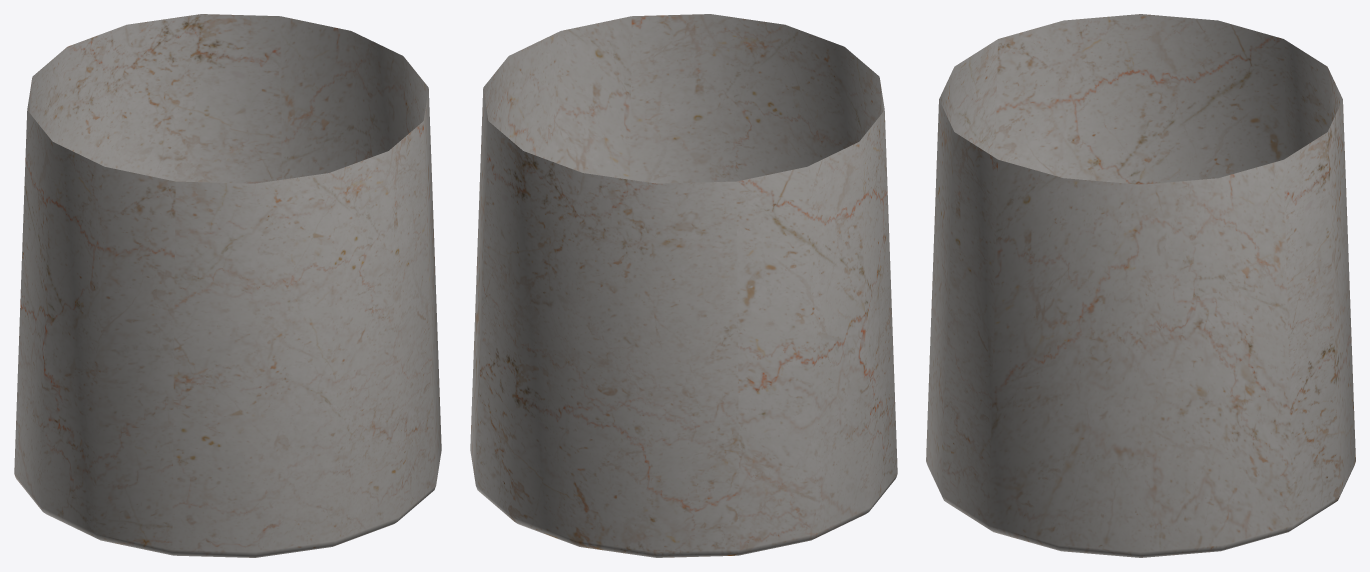
File: Faro piso 3.fbx
3 views of the same model, side by side, from view 1: azimuth 30°, elevation 25°; view 2: azimuth 150°, elevation 25°; view 3: azimuth 270°, elevation 25° (orthographic).
Visible parts, largest first — view 1: Faro piso 3_Baked; view 2: Faro piso 3_Baked; view 3: Faro piso 3_Baked.
Boxes of the visible parts, x1=… form: Faro piso 3_Baked: x1=14, y1=14, x2=441, y2=557; Faro piso 3_Baked: x1=470, y1=14, x2=897, y2=557; Faro piso 3_Baked: x1=926, y1=14, x2=1355, y2=557.
Size of the model in its own units: 417 by 400 by 417.
